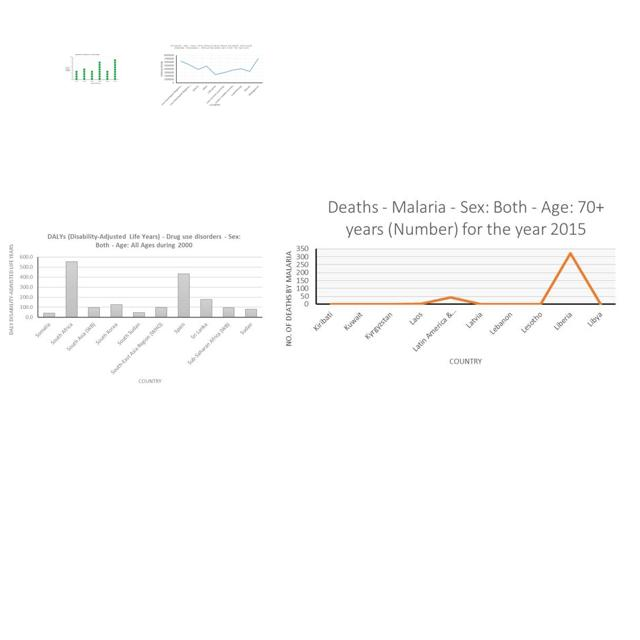Graph: (284, 191, 621, 371), (5, 229, 266, 388), (158, 43, 265, 107), (64, 53, 120, 85)
